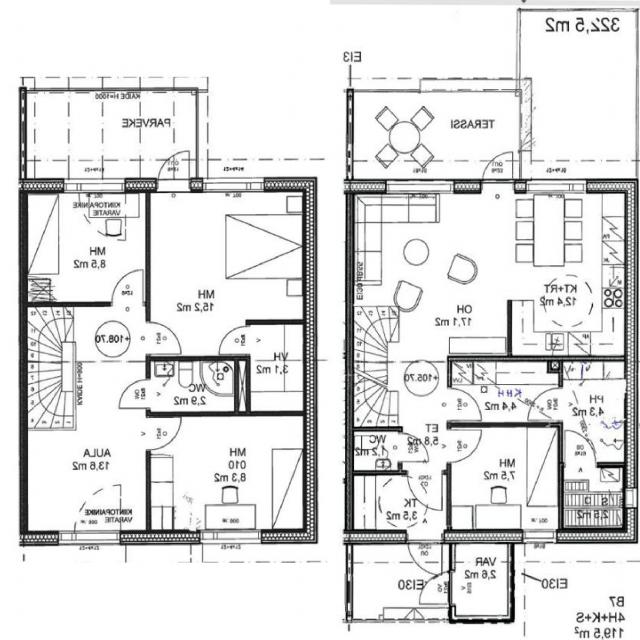door: (408, 470, 443, 511), (158, 145, 189, 191), (483, 147, 513, 193), (408, 540, 442, 580), (418, 570, 456, 604), (112, 269, 144, 307), (528, 388, 564, 420), (565, 430, 596, 467), (145, 322, 181, 353), (447, 389, 481, 420), (447, 430, 481, 461), (145, 418, 180, 448), (119, 380, 151, 408), (398, 433, 429, 461), (220, 326, 250, 354)
